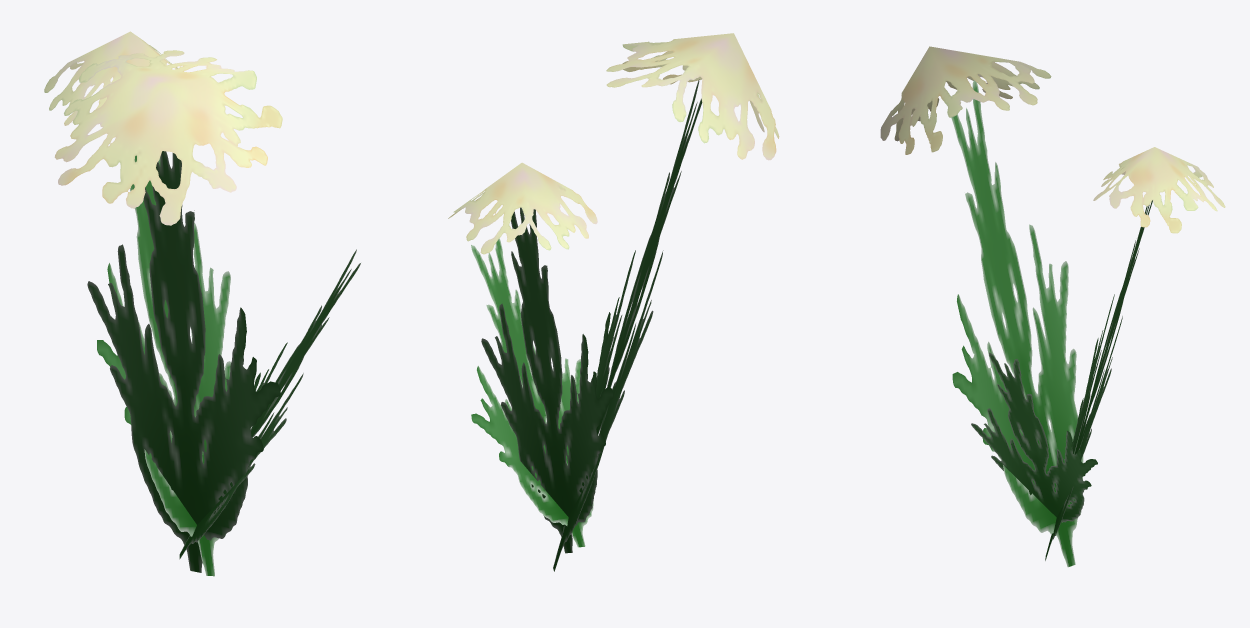
File: Carrot_flower.fbx
3 renders of one model, left to right at view 1: azimuth 30°, elevation 25°; view 2: azimuth 150°, elevation 25°; view 3: azimuth 270°, elevation 25°, orthographic. The views are drawn at different scales.
Parts seen in each view (by area): view 1: polySurface423; view 2: polySurface423; view 3: polySurface423.
Boxes of the visible parts, bbox=[...] form: polySurface423: bbox=[44, 31, 360, 576]; polySurface423: bbox=[448, 33, 779, 571]; polySurface423: bbox=[880, 46, 1225, 567].
Size of the model in its own units: 0.4842 by 0.6964 by 0.5036.
